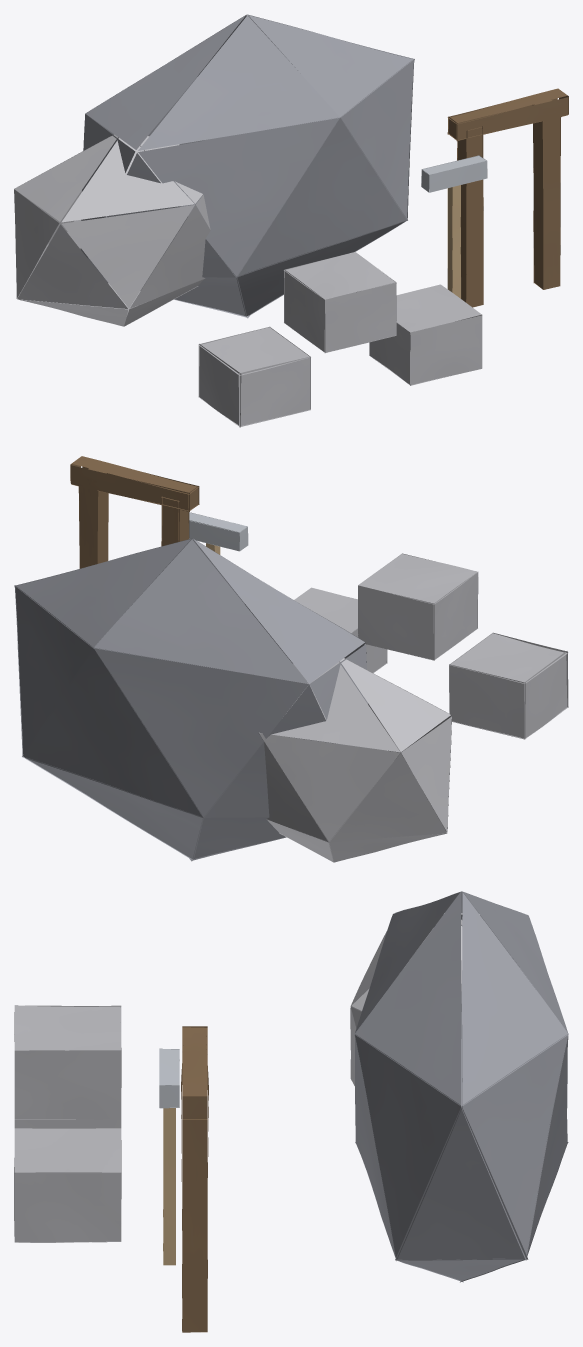
Rendered from quarry.glb.
The picture shows the model from 3 angles, top to bottom: view 1: azimuth 30°, elevation 25°; view 2: azimuth 150°, elevation 25°; view 3: azimuth 270°, elevation 25°; orthographic projection. The views are drawn at different scales.
Parts seen in each view (by area): view 1: QuarryFace; view 2: QuarryFace; view 3: QuarryFace.
Boxes of the visible parts, bbox=[...] form: QuarryFace: bbox=[14, 14, 568, 427]; QuarryFace: bbox=[14, 456, 568, 862]; QuarryFace: bbox=[14, 891, 568, 1332].
Size of the model in its own units: 2.63 by 1.7 by 2.18.
